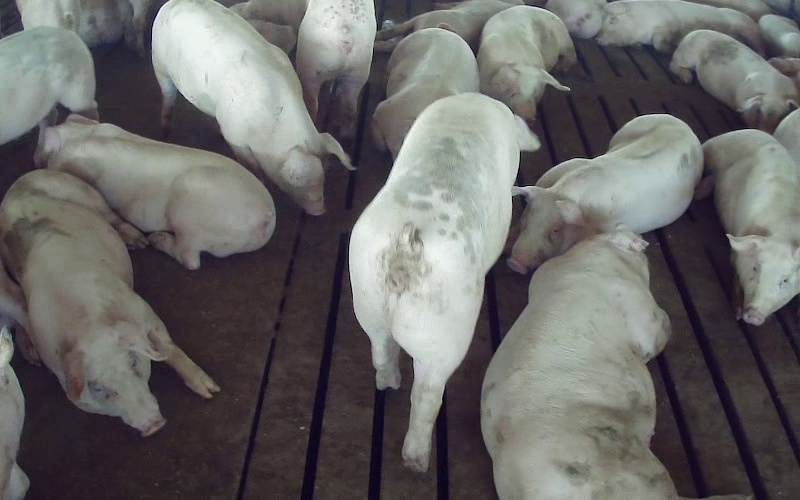pig: (350, 93, 538, 471), (0, 169, 218, 434), (482, 230, 676, 499), (152, 0, 350, 212), (36, 114, 275, 268), (508, 114, 702, 272), (695, 129, 799, 325), (372, 28, 478, 158), (670, 30, 799, 132), (0, 27, 97, 144), (477, 5, 575, 120), (296, 0, 375, 140), (596, 0, 764, 54)
